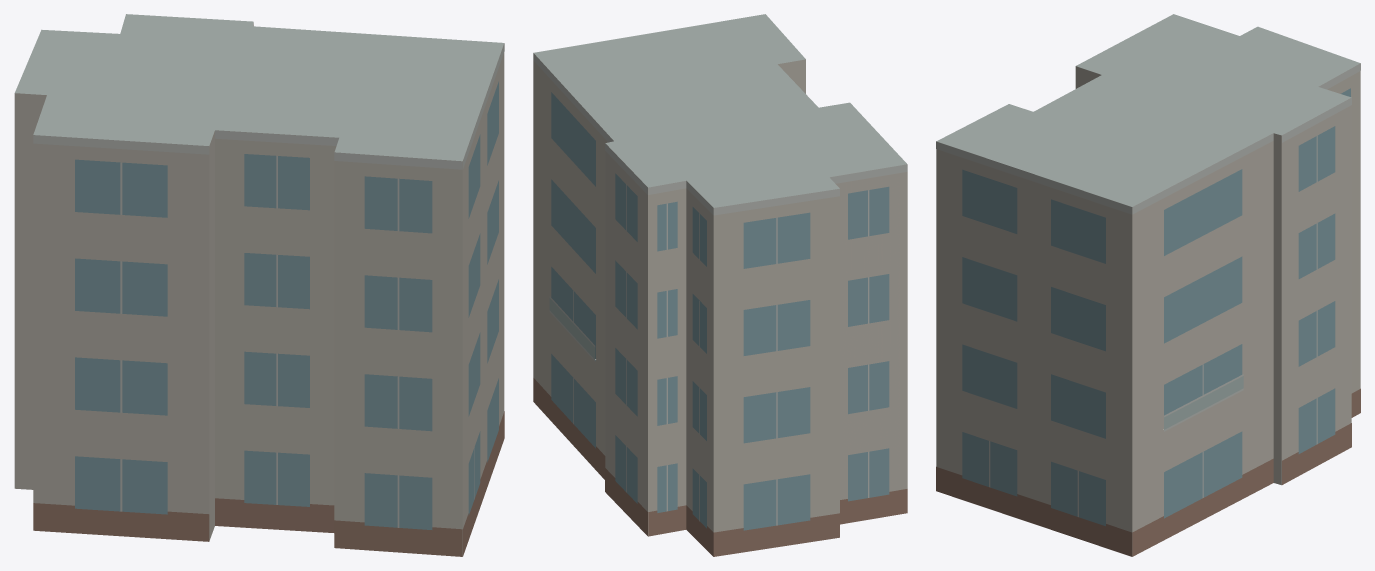
Rendered from survey-upis-32704578.glb.
3 views of the same model, side by side, from view 1: azimuth 30°, elevation 25°; view 2: azimuth 150°, elevation 25°; view 3: azimuth 270°, elevation 25° (orthographic). The views are drawn at different scales.
Parts seen in each view (by area): view 1: survey-upis-32704578.tmp; view 2: survey-upis-32704578.tmp; view 3: survey-upis-32704578.tmp.
Boxes of the visible parts, <box> form: survey-upis-32704578.tmp: <box>14,14,504,556</box>; survey-upis-32704578.tmp: <box>533,14,907,556</box>; survey-upis-32704578.tmp: <box>936,14,1360,556</box>.
Bounding box in the file's own units: 13.39 × 11.3 × 12.44.
